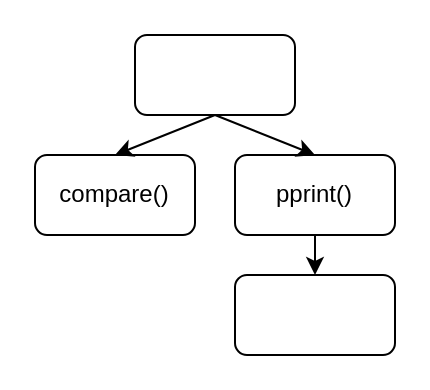
Image size: 430x390. Some labels were removed from this diagram. The shapes that lost their labels are listed below. From the top down, each one's centre as x and y in pixels, then its label:
[214,74]: main()
[314,314]: print_line()
